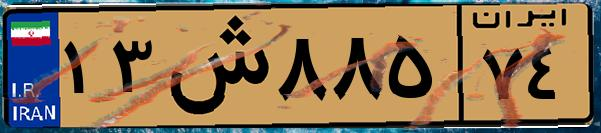1: (57, 26, 110, 100)
3: (110, 28, 158, 98)
4: (525, 38, 570, 115)
5: (385, 28, 445, 110)
7: (475, 38, 525, 113)
8: (270, 28, 330, 110), (330, 28, 385, 110)
ش: (158, 12, 270, 120)
